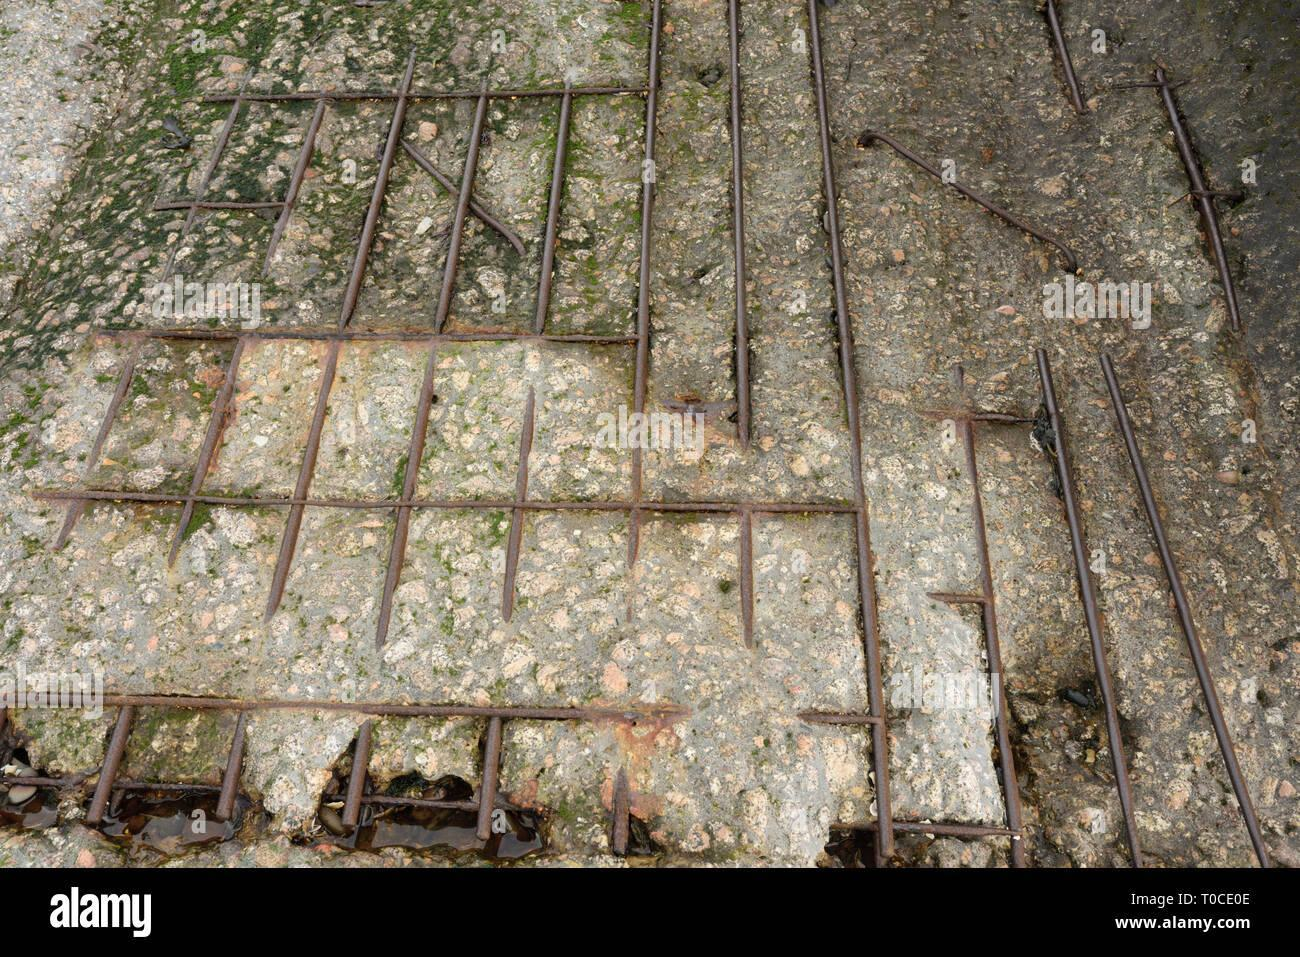Exposed reinforcement: (1099, 352, 1300, 865), (809, 1, 897, 859), (1035, 347, 1144, 868), (862, 130, 1079, 276), (963, 420, 1026, 868), (31, 484, 858, 516), (1, 688, 692, 727), (1154, 67, 1242, 332), (338, 45, 419, 331), (262, 340, 339, 623), (160, 67, 253, 299), (627, 1, 663, 570), (374, 342, 438, 651), (168, 338, 246, 569), (1, 774, 481, 811), (53, 348, 138, 554), (398, 137, 527, 257), (433, 77, 491, 333), (262, 100, 325, 277), (534, 75, 574, 336), (95, 326, 640, 344), (729, 1, 750, 446), (500, 383, 537, 623), (202, 85, 649, 104), (84, 705, 135, 825), (1048, 1, 1087, 116), (215, 713, 248, 822), (475, 718, 502, 841), (340, 726, 370, 827), (894, 820, 1023, 838), (740, 513, 755, 648), (611, 775, 631, 854), (152, 201, 285, 212), (795, 710, 873, 727), (968, 412, 1038, 424), (925, 592, 986, 605), (1110, 79, 1164, 91), (1189, 189, 1247, 200)
